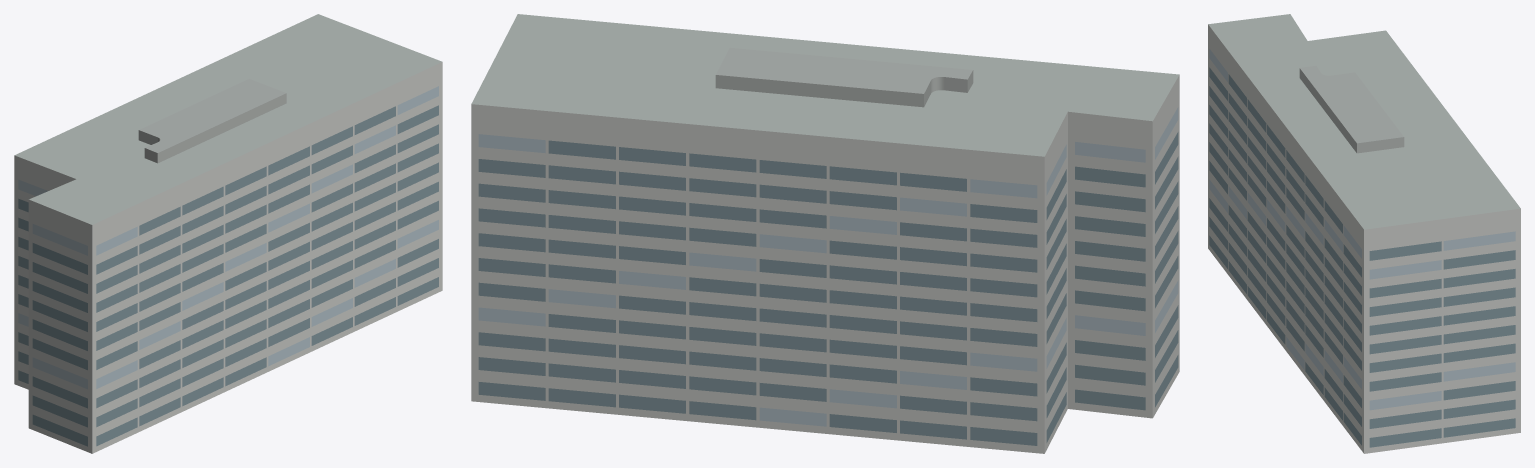
The model's file is landmark-b686ad99-c744-4e54-855e-6d4ebc7ca691.glb.
The picture shows the model from 3 angles, left to right: view 1: azimuth 30°, elevation 25°; view 2: azimuth 150°, elevation 25°; view 3: azimuth 270°, elevation 25°; orthographic projection. The views are drawn at different scales.
Parts seen in each view (by area): view 1: landmark-b686ad99-c744-4e54-855e-6d4ebc7ca691; view 2: landmark-b686ad99-c744-4e54-855e-6d4ebc7ca691; view 3: landmark-b686ad99-c744-4e54-855e-6d4ebc7ca691.
Part boxes in pixels (left/top/right/bottom): landmark-b686ad99-c744-4e54-855e-6d4ebc7ca691: left=14, top=14, right=442, bottom=453; landmark-b686ad99-c744-4e54-855e-6d4ebc7ca691: left=471, top=14, right=1179, bottom=453; landmark-b686ad99-c744-4e54-855e-6d4ebc7ca691: left=1208, top=14, right=1520, bottom=453.
Size of the model in its own units: 75.54 by 38.25 by 46.3.
